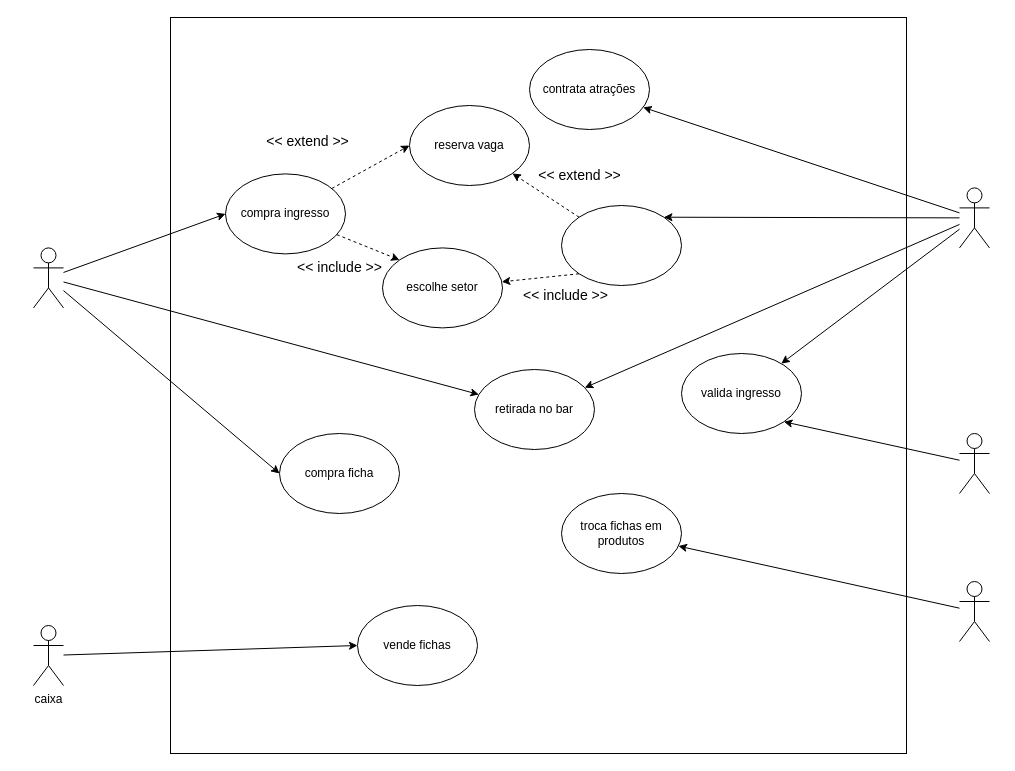
This 1015x771 diagram has some shape labels left out. Each missing label, with the centre of its shape:
"bar" goes at (974,611).
"consumidor" goes at (48,277).
"portaria" goes at (974,463).
"promotor" goes at (974,217).
"vende ingresso" goes at (621,245).
